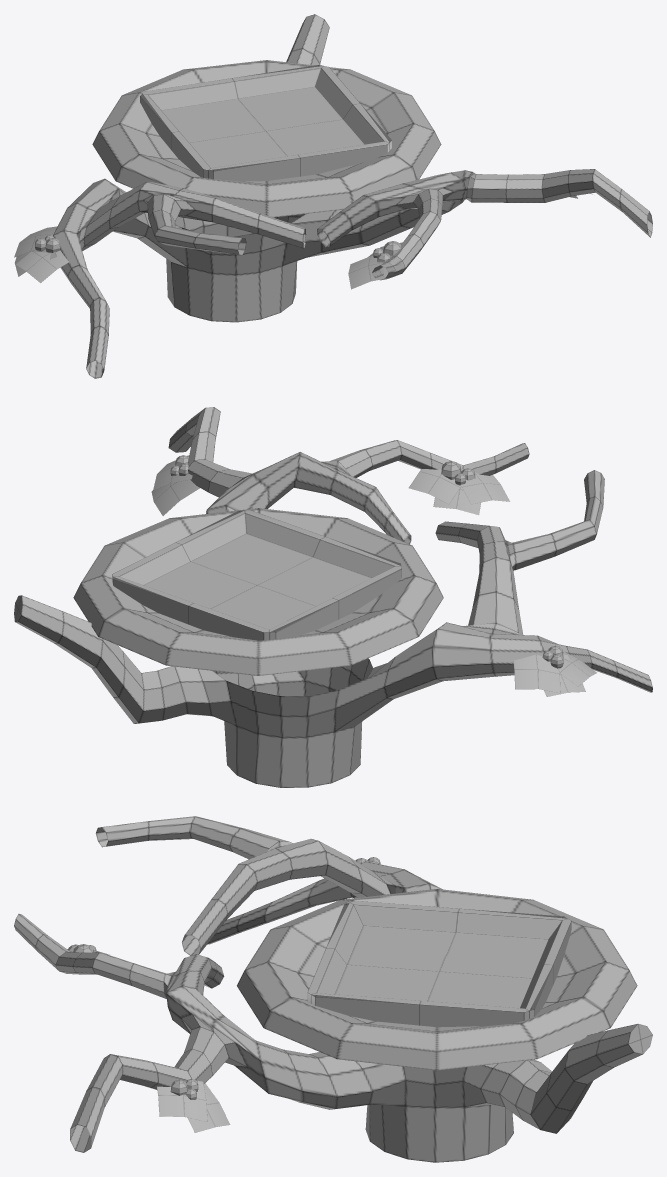
Rendered from Arena_Malphas_center.fbx.
3 views of the same model, one above another, from view 1: azimuth 30°, elevation 25°; view 2: azimuth 150°, elevation 25°; view 3: azimuth 270°, elevation 25° (orthographic). The views are drawn at different scales.
Parts seen in each view (by area): view 1: polySurface_platform; view 2: polySurface_platform; view 3: polySurface_platform.
Part boxes in pixels (box(x1,y1,x2,y2)): polySurface_platform: box(14, 14, 652, 378); polySurface_platform: box(14, 407, 652, 787); polySurface_platform: box(14, 816, 652, 1162).
Size of the model in its own units: 78.71 by 29.03 by 73.79.
1 material, 1 textured.
